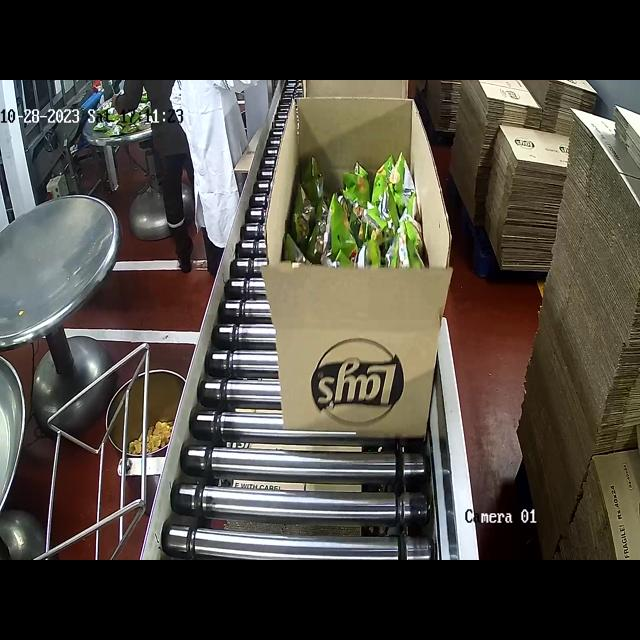yogurt: (284, 150, 434, 271)
